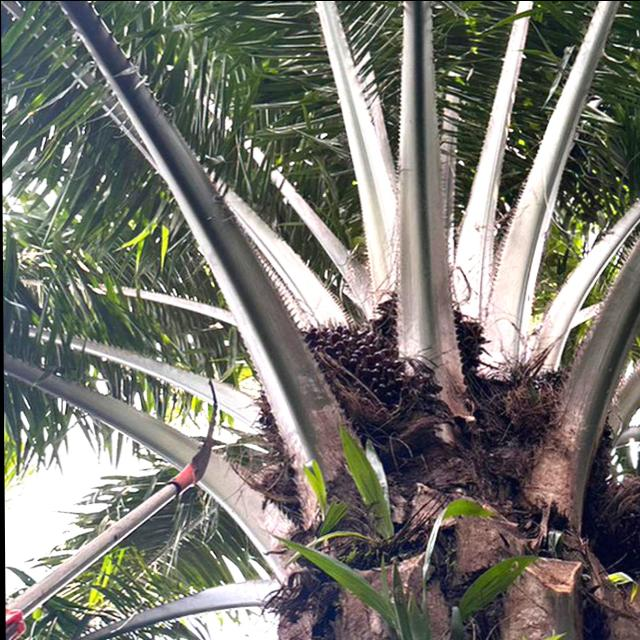unripe: (257, 309, 438, 481)
